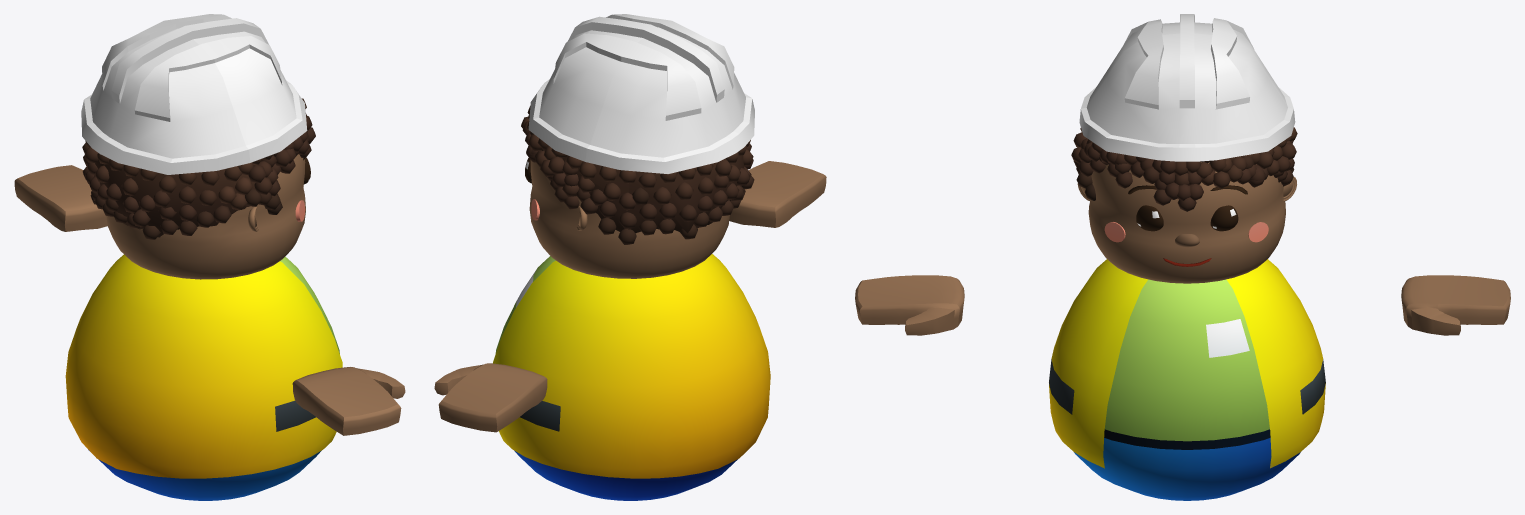
File: TrabajadorMoreno.fbx
3 views of the same model, side by side, from view 1: azimuth 30°, elevation 25°; view 2: azimuth 150°, elevation 25°; view 3: azimuth 270°, elevation 25° (orthographic). The views are drawn at different scales.
Visible parts, largest first — view 1: Cabeza, l_hand_Chico, r_hand_Chico; view 2: Cabeza, r_hand_Chico, l_hand_Chico; view 3: Cabeza, r_hand_Chico, l_hand_Chico.
Part boxes in pixels (x1,y1,x2,y2): Cabeza: (65,14,342,500); l_hand_Chico: (292,367,405,435); r_hand_Chico: (14,165,107,231); Cabeza: (493,14,770,500); r_hand_Chico: (434,363,547,432); l_hand_Chico: (729,161,826,227); Cabeza: (1049,14,1325,500); r_hand_Chico: (1401,275,1510,335); l_hand_Chico: (855,275,964,335).
Bounding box in the file's own units: 22.76 × 40.75 × 54.51.
